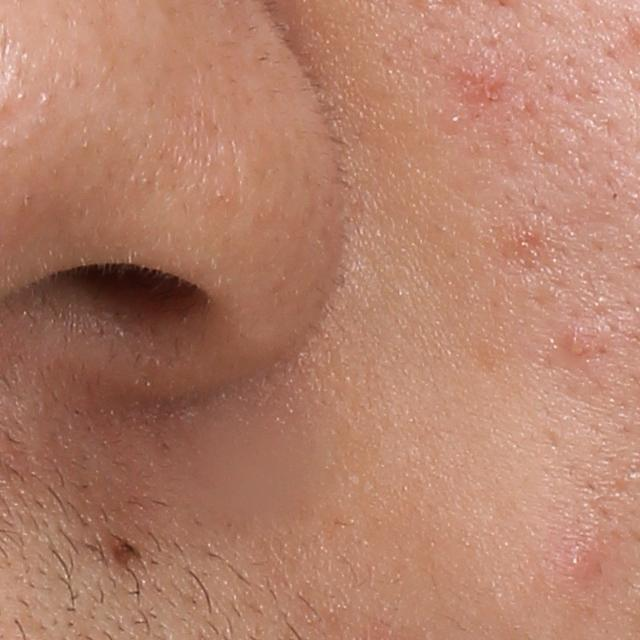nevus: (108, 528, 143, 571)
papule: (557, 531, 613, 589)
